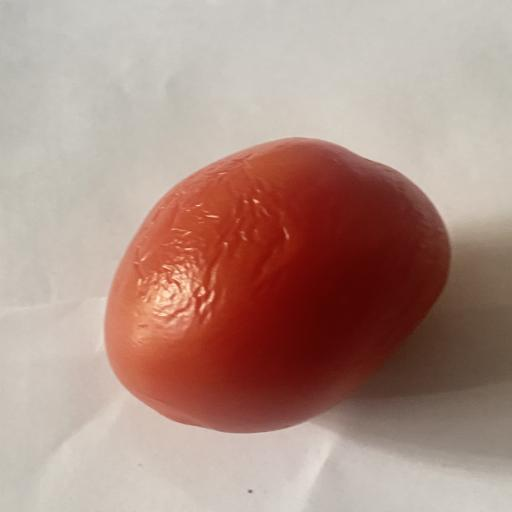overipe: (105, 138, 450, 433)
